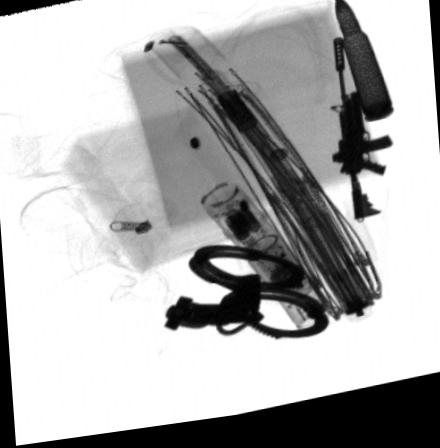Baton: (200, 187, 344, 347)
Bullet: (333, 3, 394, 132)
Gun: (329, 46, 391, 230)
HandCuffs: (164, 251, 326, 348)
